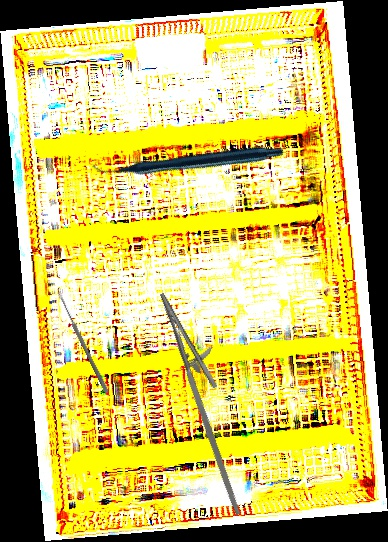Handpiece: (89, 69, 286, 248)
Needle Holder: (132, 283, 284, 517)
Surgical Spoon: (56, 291, 110, 394)
